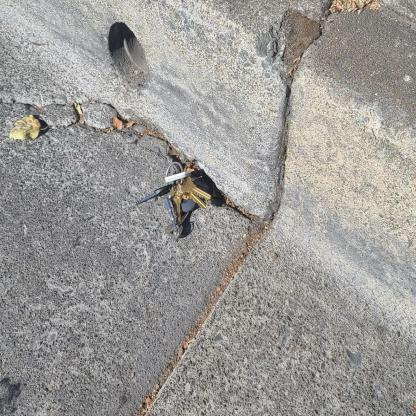keys: (135, 154, 226, 240)
